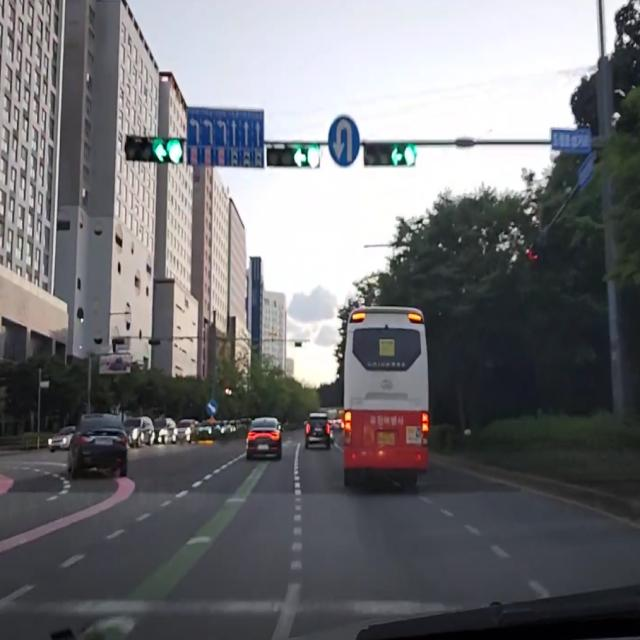Green Light: (167, 138, 183, 163), (404, 142, 416, 166), (308, 146, 320, 168)
